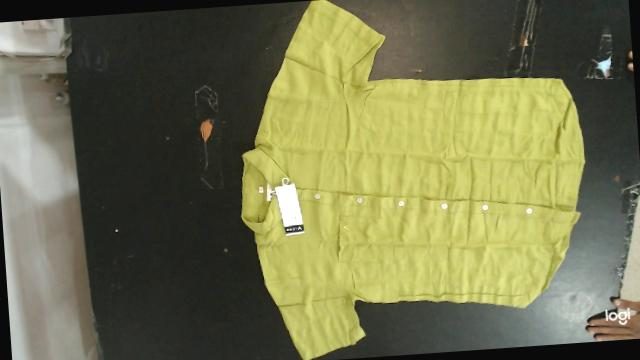new-garment: (242, 0, 584, 359)
